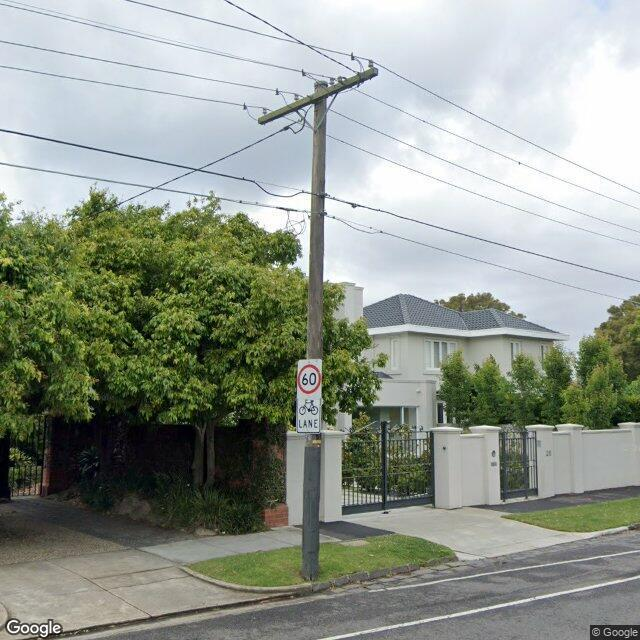crossarm: (243, 53, 378, 125)
timber-pole: (301, 81, 330, 580)
